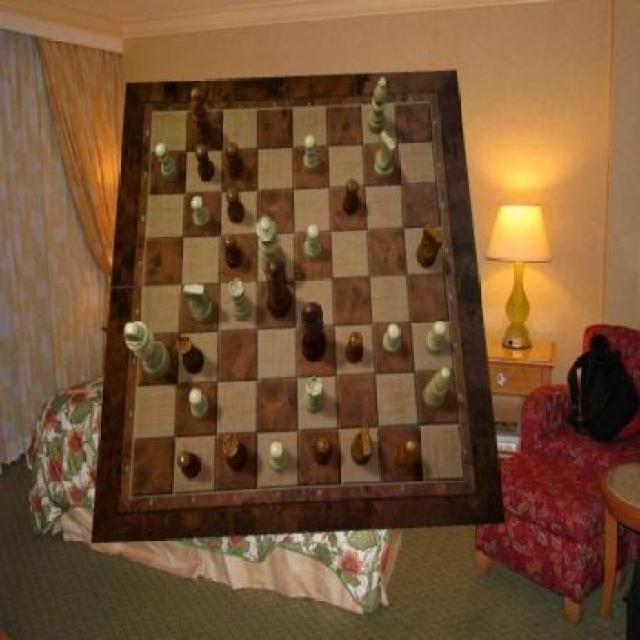bishop: (191, 90, 214, 146), (392, 439, 416, 473)
black-bishop: (302, 303, 328, 363)
black-king: (417, 221, 445, 267), (351, 428, 373, 466)
black-knight: (196, 145, 216, 182), (227, 142, 246, 179), (227, 189, 246, 224), (177, 451, 201, 478), (224, 234, 243, 268), (343, 178, 360, 214), (346, 332, 364, 365), (313, 437, 332, 465)
black-pawn: (266, 258, 294, 320)
black-queen: (177, 335, 205, 374), (223, 435, 248, 473)
black-rook: (424, 368, 452, 410), (368, 77, 388, 135)
white-bishop: (126, 322, 171, 379)
white-king: (183, 285, 213, 323), (374, 131, 396, 180)
white-knight: (156, 143, 178, 181), (424, 322, 446, 356), (191, 197, 211, 231), (189, 388, 209, 420), (304, 135, 320, 174), (383, 325, 401, 357), (304, 224, 320, 260), (270, 442, 288, 472)
white-pawn: (256, 217, 286, 278)
white-queen: (229, 278, 253, 321), (304, 375, 326, 413)
